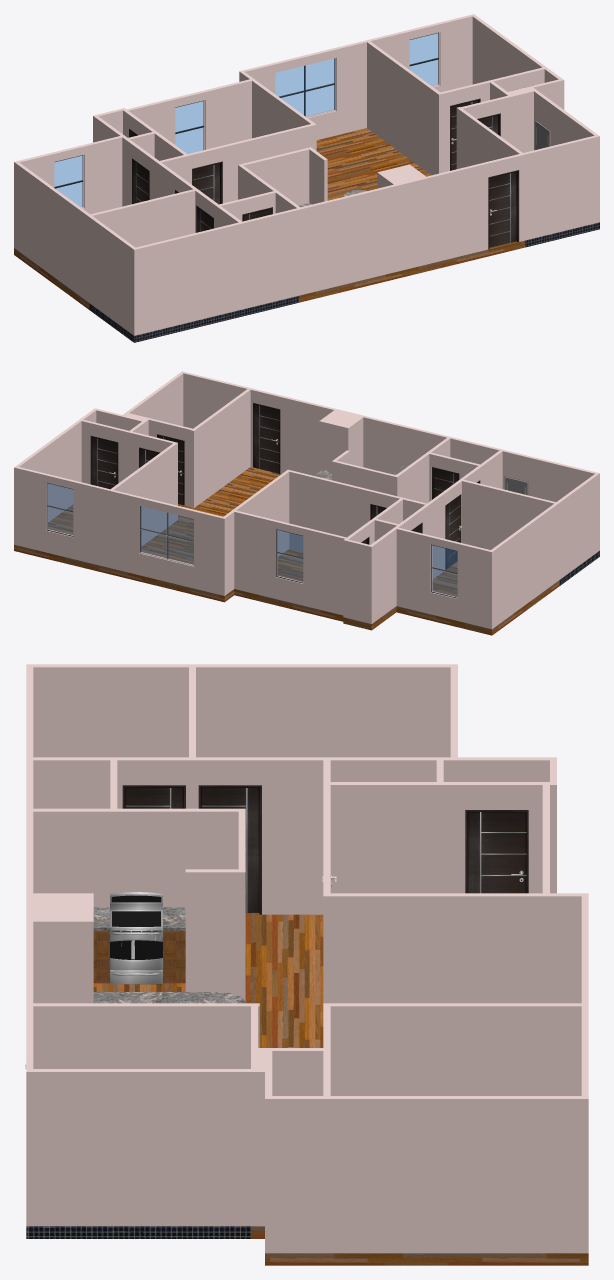
The model's file is 3BED.glb.
3 renders of one model, top to bottom at view 1: azimuth 30°, elevation 25°; view 2: azimuth 150°, elevation 25°; view 3: azimuth 270°, elevation 25°, orthographic. The views are drawn at different scales.
Parts seen in each view (by area): view 1: G-Object.113, G-Object, C-Component#10, G-Object.006, G-Object.002, C-small window.001, C-small window, C-small window.002, G-Object.050, G-Object.105, G-Object.001, G-Object.017; view 2: G-Object.113, G-Object, C-Component#10, G-Object.006, C-small window, C-small window.002, C-small window.001, G-Object.028, G-Object.061, G-Object.083, G-Object.039; view 3: G-Object.113, G-Object, G-Object.094, G-Object.001, G-Object.061, G-Object.155, G-Object.147, G-Object.152, G-Object.072, G-Object.138, G-Object.129.
Boxes of the visible parts, <box> form: G-Object.113: <box>14,14,599,335</box>; G-Object: <box>14,128,525,309</box>; C-Component#10: <box>275,57,336,117</box>; G-Object.006: <box>489,172,516,247</box>; G-Object.002: <box>89,296,298,342</box>; C-small window.001: <box>175,100,205,153</box>; C-small window: <box>409,32,440,87</box>; C-small window.002: <box>54,154,84,208</box>; G-Object.050: <box>193,163,219,204</box>; G-Object.105: <box>132,159,148,203</box>; G-Object.001: <box>525,222,599,247</box>; G-Object.017: <box>451,100,477,170</box>; G-Object.113: <box>14,371,599,629</box>; G-Object: <box>14,467,559,635</box>; C-Component#10: <box>139,505,194,566</box>; G-Object.006: <box>254,404,279,473</box>; C-small window: <box>46,482,73,537</box>; C-small window.002: <box>430,544,457,598</box>; C-small window.001: <box>276,529,303,583</box>; G-Object.028: <box>91,437,117,489</box>; G-Object.061: <box>446,495,460,569</box>; G-Object.083: <box>434,468,457,497</box>; G-Object.039: <box>158,435,183,505</box>; G-Object.113: <box>26,664,588,1253</box>; G-Object: <box>93,912,588,1265</box>; G-Object.094: <box>467,812,526,893</box>; G-Object.001: <box>26,1226,250,1238</box>; G-Object.061: <box>201,788,259,912</box>; G-Object.155: <box>110,929,162,970</box>; G-Object.147: <box>93,992,245,1003</box>; G-Object.152: <box>110,903,162,929</box>; G-Object.072: <box>125,788,183,808</box>; G-Object.138: <box>164,931,185,979</box>; G-Object.129: <box>93,907,185,930</box>.
Size of the model in its own units: 14.77 by 2.64 by 8.09.
28 materials, 12 textured.
